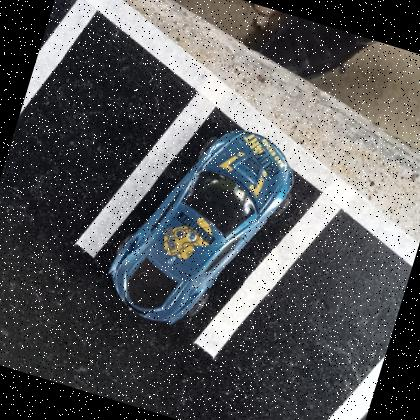Car: (109, 128, 293, 323)
